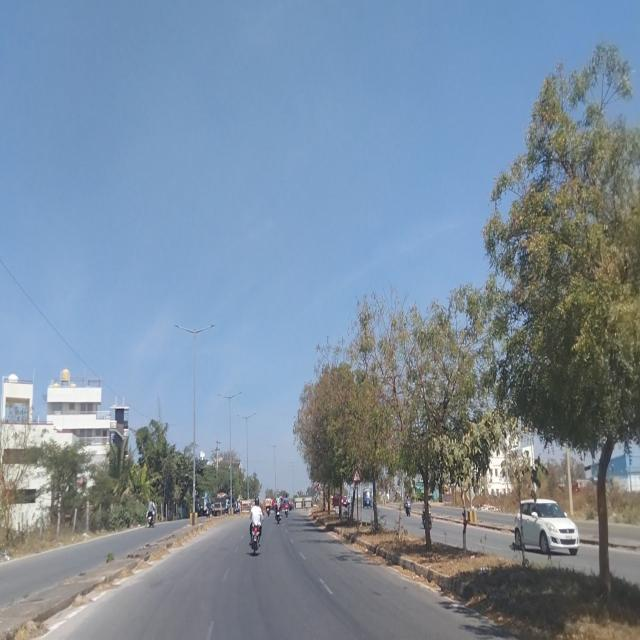bien_cam: (353, 467, 361, 483)
